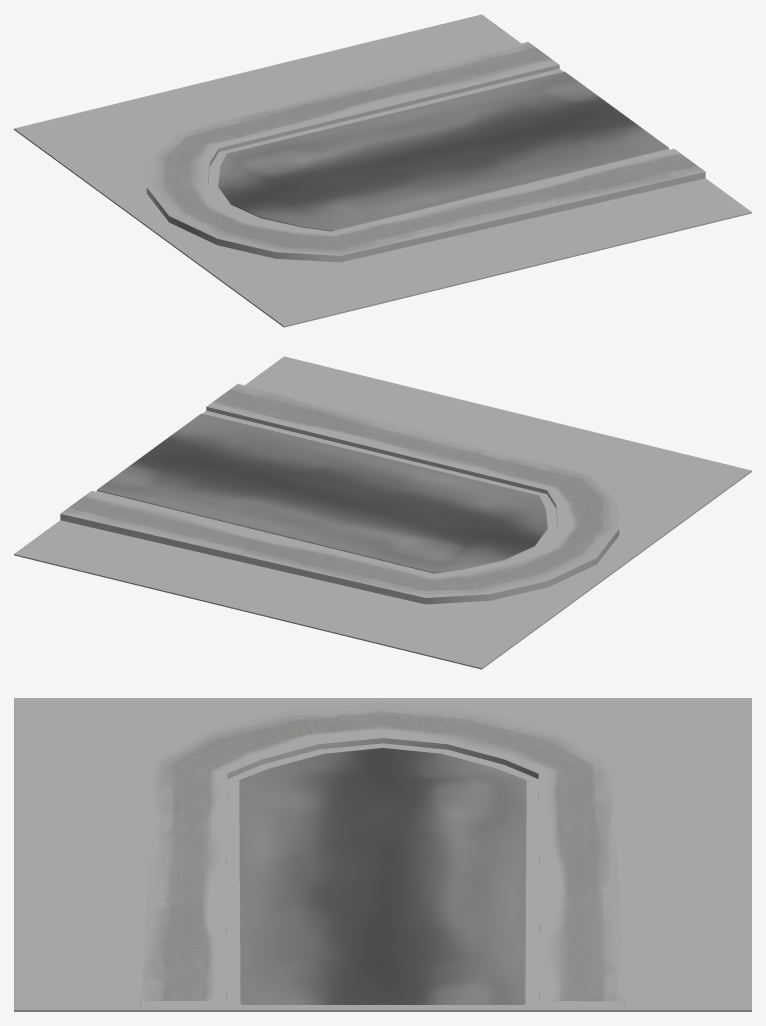
File: Curved_DeadEnd1.fbx
3 views of the same model, one above another, from view 1: azimuth 30°, elevation 25°; view 2: azimuth 150°, elevation 25°; view 3: azimuth 270°, elevation 25° (orthographic). The views are drawn at different scales.
Parts seen in each view (by area): view 1: Road_10X40, Road_10X23; view 2: Road_10X40, Road_10X23; view 3: Road_10X40, Road_10X23.
Boxes of the visible parts, x1,y1,x2,y2 form: Road_10X40: [146, 42, 705, 262]; Road_10X23: [14, 14, 751, 327]; Road_10X40: [60, 384, 619, 604]; Road_10X23: [14, 356, 751, 669]; Road_10X40: [140, 702, 625, 1006]; Road_10X23: [14, 698, 751, 1011].
Bounding box in the file's own units: 1000 × 15.99 × 1000.
